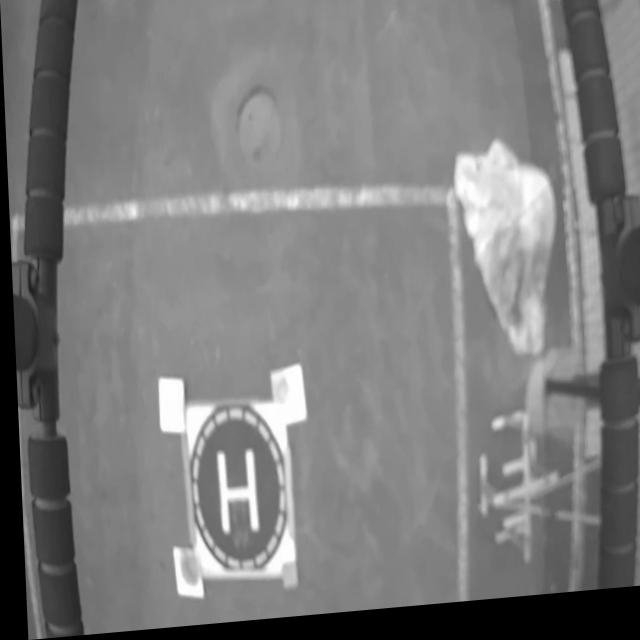Helipad: (212, 451, 254, 539)
